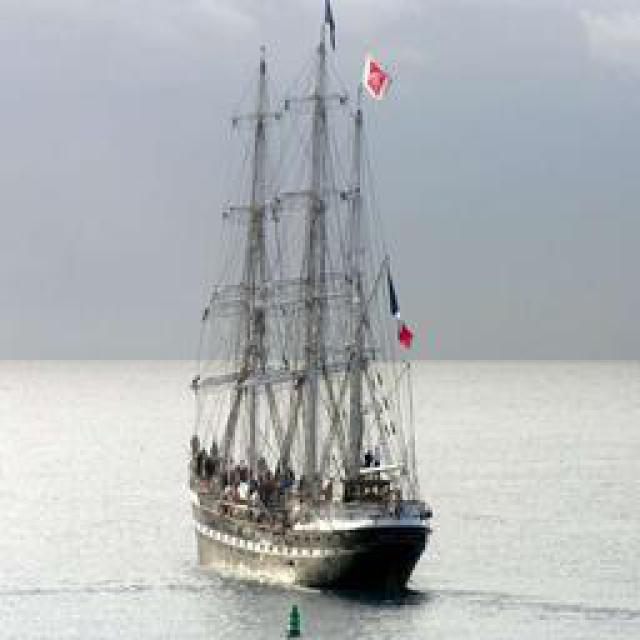Ship: (172, 1, 433, 614)
